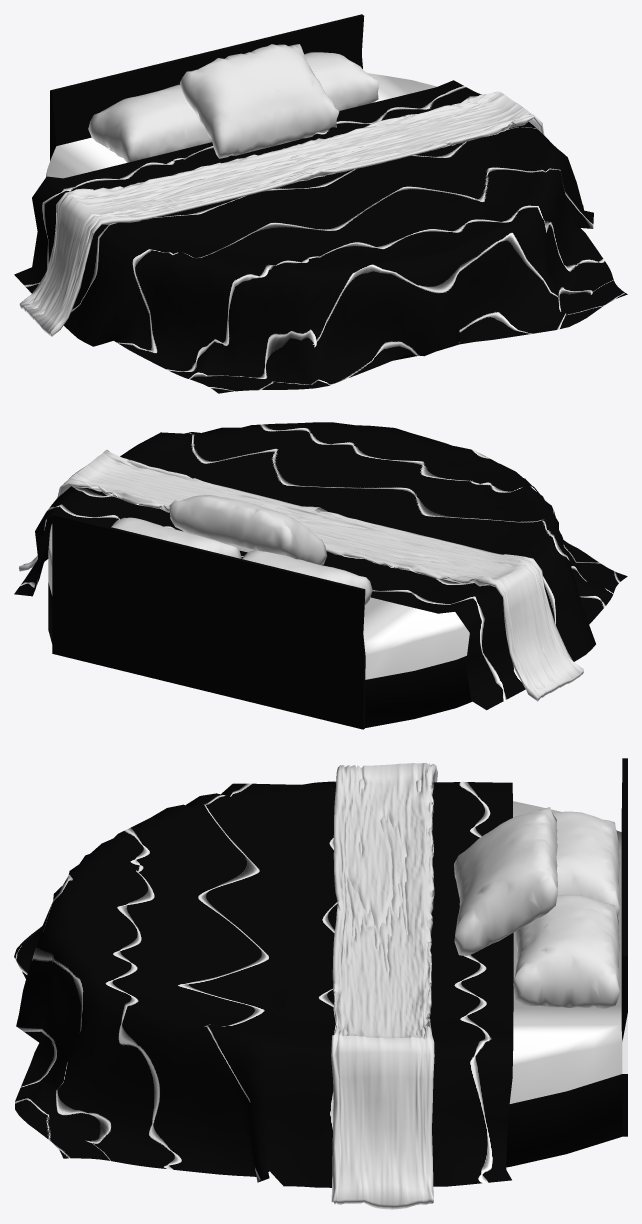
Rendered from bed9.glb.
3 views of the same model, one above another, from view 1: azimuth 30°, elevation 25°; view 2: azimuth 150°, elevation 25°; view 3: azimuth 270°, elevation 25° (orthographic). The views are drawn at different scales.
Parts seen in each view (by area): view 1: Bed; view 2: Bed; view 3: Bed.
Boxes of the visible parts, x1,y1,x2,y2 form: Bed: [14, 14, 627, 393]; Bed: [14, 422, 627, 729]; Bed: [14, 758, 627, 1209].
Bounding box in the file's own units: 2.62 × 0.7889 × 2.03.
7 materials, 1 textured.
